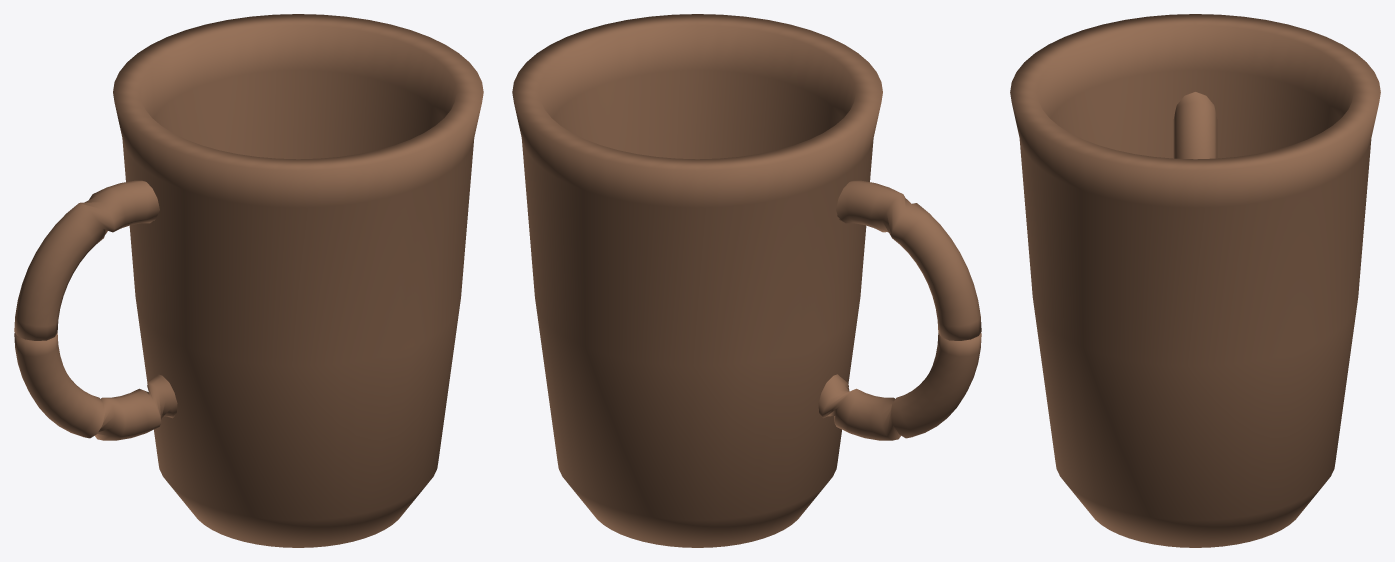
Rendered from dipper-rest.glb.
3 views of the same model, side by side, from view 1: azimuth 30°, elevation 25°; view 2: azimuth 150°, elevation 25°; view 3: azimuth 270°, elevation 25° (orthographic).
Visible parts, largest first — view 1: dipper-rest; view 2: dipper-rest; view 3: dipper-rest.
Boxes of the visible parts, x1=… form: dipper-rest: x1=14, y1=14, x2=483, y2=547; dipper-rest: x1=512, y1=14, x2=981, y2=547; dipper-rest: x1=1010, y1=14, x2=1380, y2=547.
Size of the model in its own units: 0.1128 by 0.1 by 0.082.
